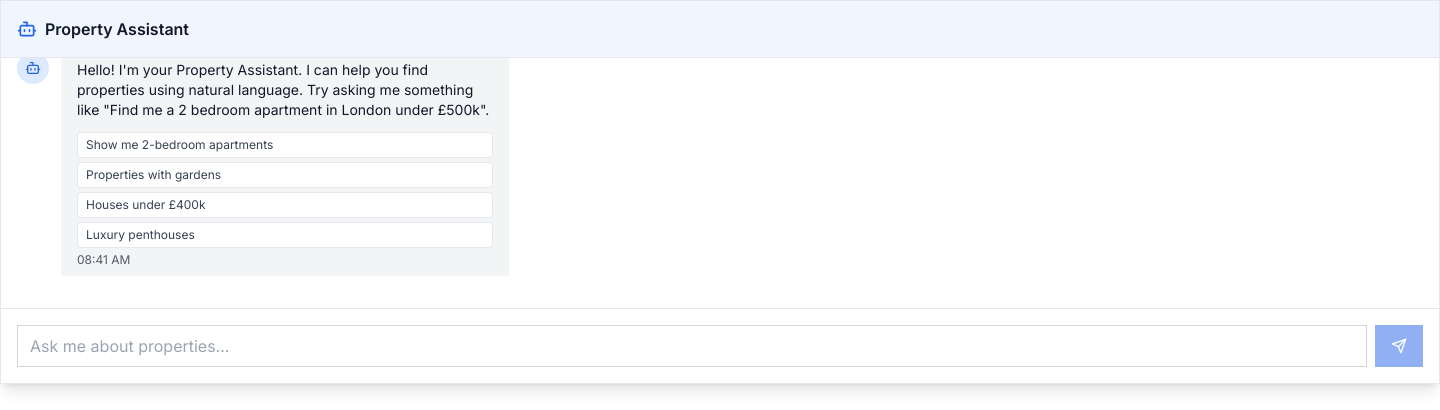
TDD Complete Workflow Integration › 🟢 GREEN Phase: Minimal Implementation to Pass Tests › should integrate chatbot with property search
(page scrolled)
Type "Find me a family home with garden" into the field named "message". click: (692, 346)
box: [17,325,1367,367]
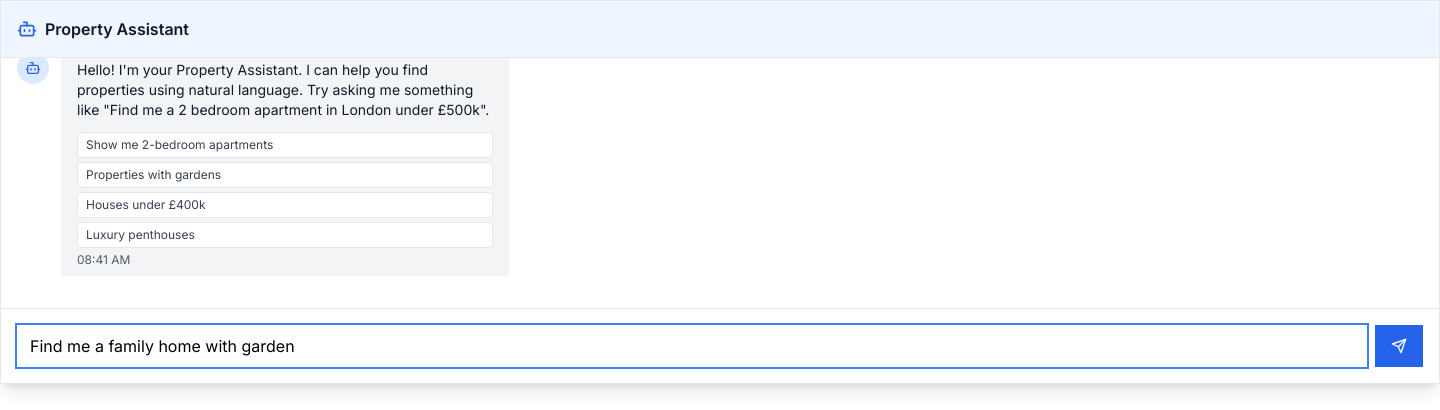
Click the button named "send". click: (1399, 346)
box: [1375,325,1423,367]
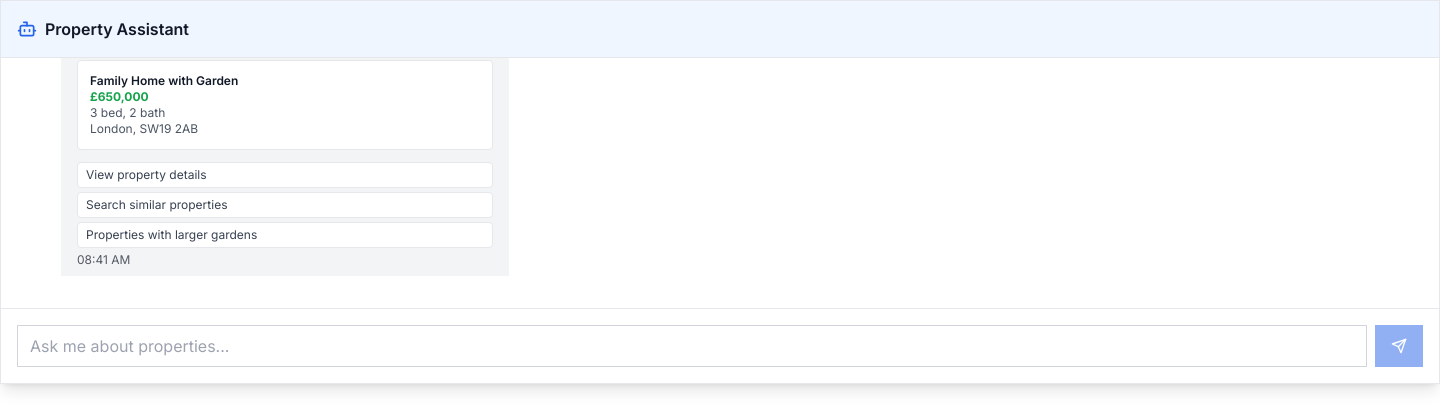
Check: the heading "Family Home with Garden" is shown, box [90,73,238,88]
Check: the button "View property details" is shown, box [77,162,493,188]
